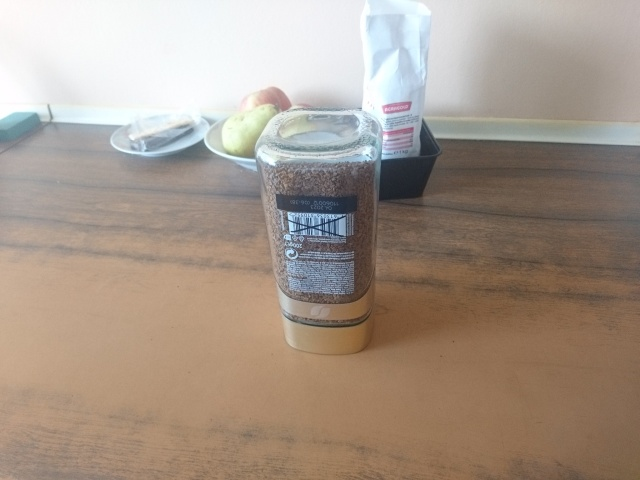Nescafe Gold 225g: (250, 105, 386, 358)
